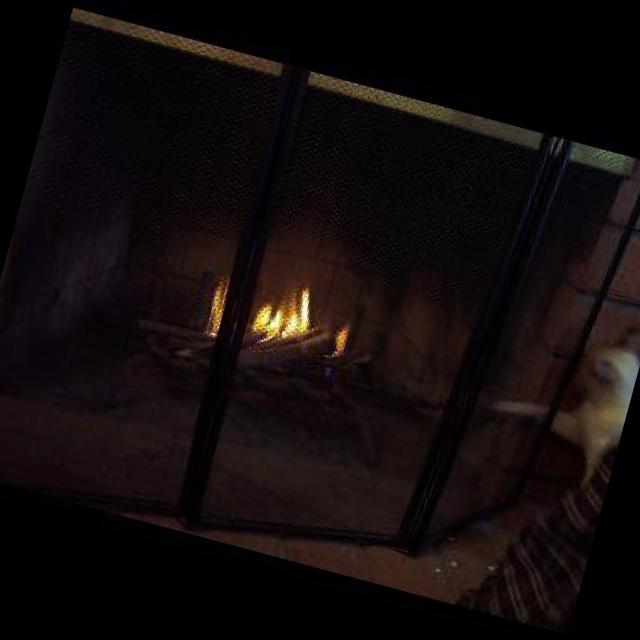Fire: (196, 252, 367, 370)
